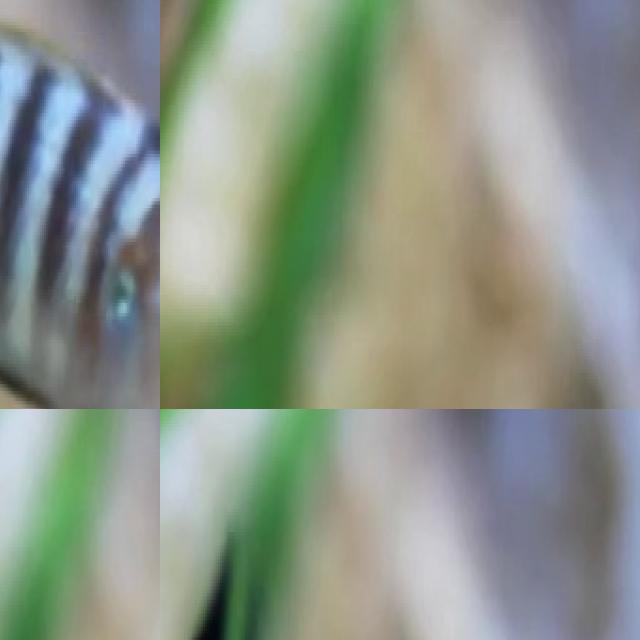fish: (0, 0, 160, 409), (160, 498, 429, 640)
